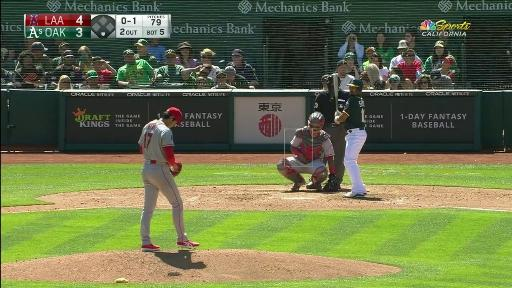pitcher: (138, 107, 200, 250)
